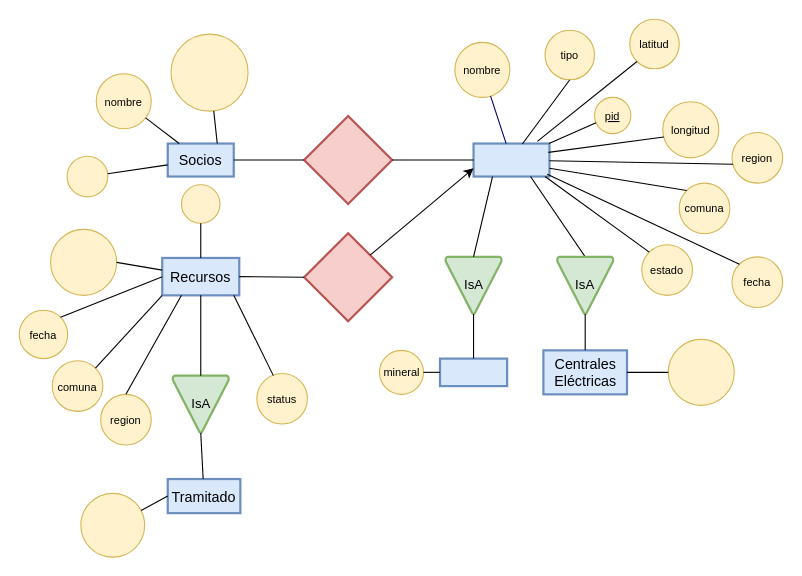
This 802x576 diagram has some shape labels left out. The shapes that lost their labels are listed below. From the top down, each one's centre as x and y in pixels, then its label:
the point at 209,72: nacionalidad
the point at 87,176: sid
the point at 347,159: Involucrado
the point at 511,159: Proyectos
the point at 200,203: causa
the point at 83,261: descripción
the point at 347,277: Asociado
the point at 473,372: Minas
the point at 700,371: generación
the point at 112,524: fecha_tram
